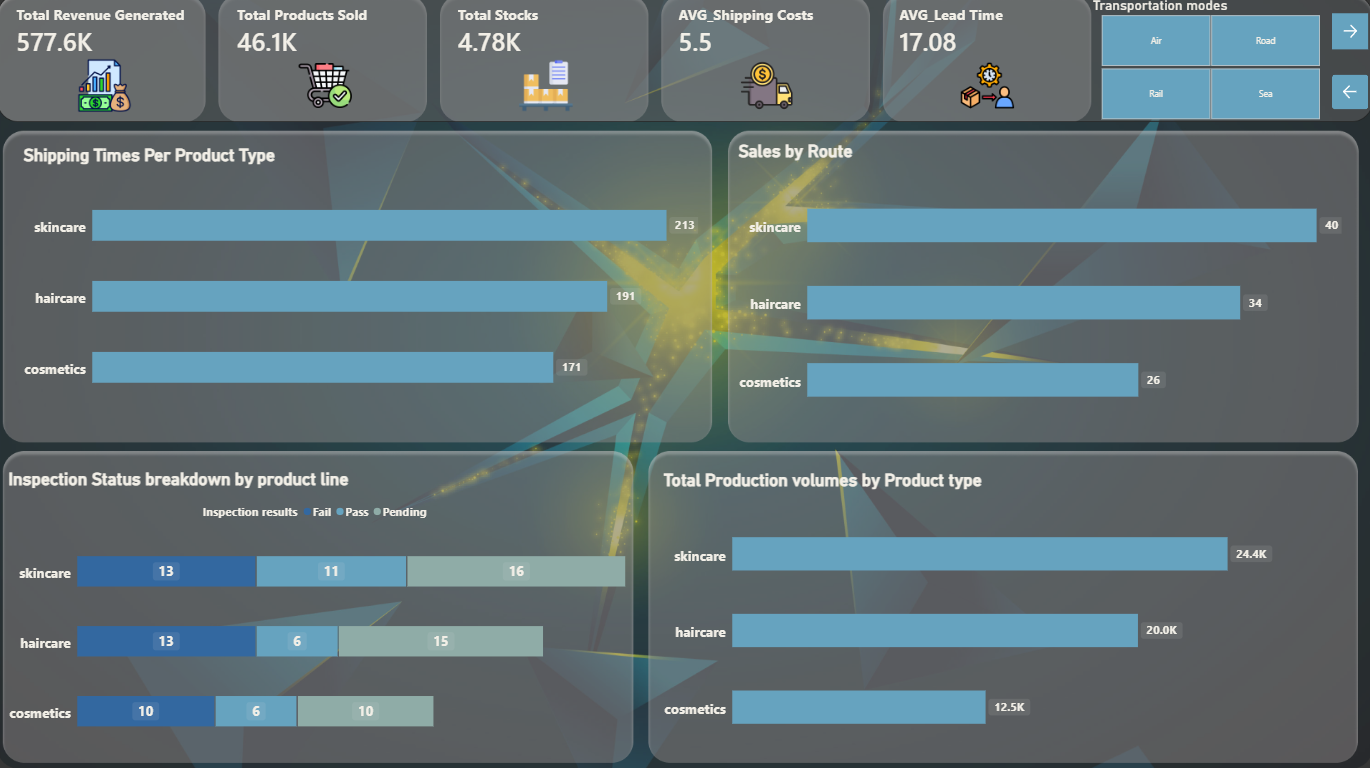

This screenshot's page, from the dashboard's own definition file:
{"tool":"powerbi","page":{"name":"Page 2","canvas":[1920,1080],"ordinal":2},"visuals":[{"type":"barChart","title":"Inspection Status breakdown by product line","fields":{"Category":["supply_chain_data.Product type"],"Series":["supply_chain_data.Inspection results"],"Y":["CountNonNull(supply_chain_data.SKU)"]},"box":[0,644.4,892.6,435.2],"z":0},{"type":"clusteredBarChart","title":"Shipping Times Per Product Type","fields":{"Category":["supply_chain_data.Product type"],"Y":["Sum(supply_chain_data.Shipping times)"]},"box":[21.1,192.1,973.3,408.1],"z":1000},{"type":"clusteredBarChart","title":"Total Production volumes by Product type","fields":{"Category":["supply_chain_data.Product type"],"Y":["Sum(supply_chain_data.Production volumes)"]},"box":[913.2,644.7,978.9,434.2],"z":2000},{"type":"clusteredBarChart","title":"Sales by Route","fields":{"Category":["supply_chain_data.Product type"],"Y":["CountNonNull(supply_chain_data.Routes)"]},"box":[1018.4,186.8,873.7,436.8],"z":3000},{"type":"cardVisual","fields":{"Data":["Measuers.Total Revenue Generated","Measuers.Total Products Sold","Measuers.Total Stocks","Measuers.AVG_Shipping Costs","Measuers.AVG_Lead Time"]},"box":[0,0,1536,172],"z":4000},{"type":"slicer","fields":{"Values":["supply_chain_data.Transportation modes"]},"box":[1520.4,0,343.6,172.7],"z":5000},{"type":"actionButton","box":[1862.8,22.7,50.6,50.6],"z":6000},{"type":"actionButton","box":[1862.8,108.1,50.6,48.8],"z":7000}]}

Visuals, with their boxes in screenshot pixels (x1, y1, x2, y2), scaled from the page's 1920x1080 canvas onto the 1370x768 screenshot:
"Inspection Status breakdown by product line" barChart: Rect(0, 458, 637, 767)
"Shipping Times Per Product Type" clusteredBarChart: Rect(15, 137, 710, 427)
"Total Production volumes by Product type" clusteredBarChart: Rect(652, 458, 1350, 767)
"Sales by Route" clusteredBarChart: Rect(727, 133, 1350, 443)
cardVisual - Measuers.Total Revenue Generated x Measuers.Total Products Sold: Rect(0, 0, 1096, 122)
slicer - supply_chain_data.Transportation modes: Rect(1085, 0, 1330, 123)
actionButton: Rect(1329, 16, 1365, 52)
actionButton: Rect(1329, 77, 1365, 112)
